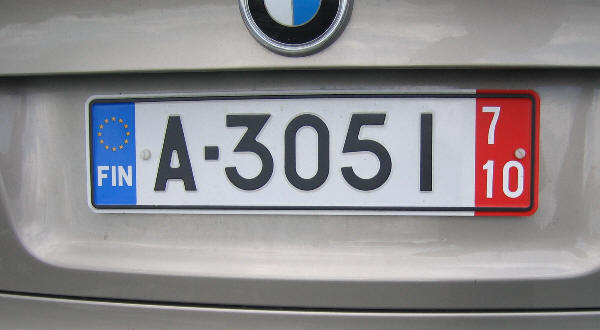license_plate: (88, 92, 539, 217)
